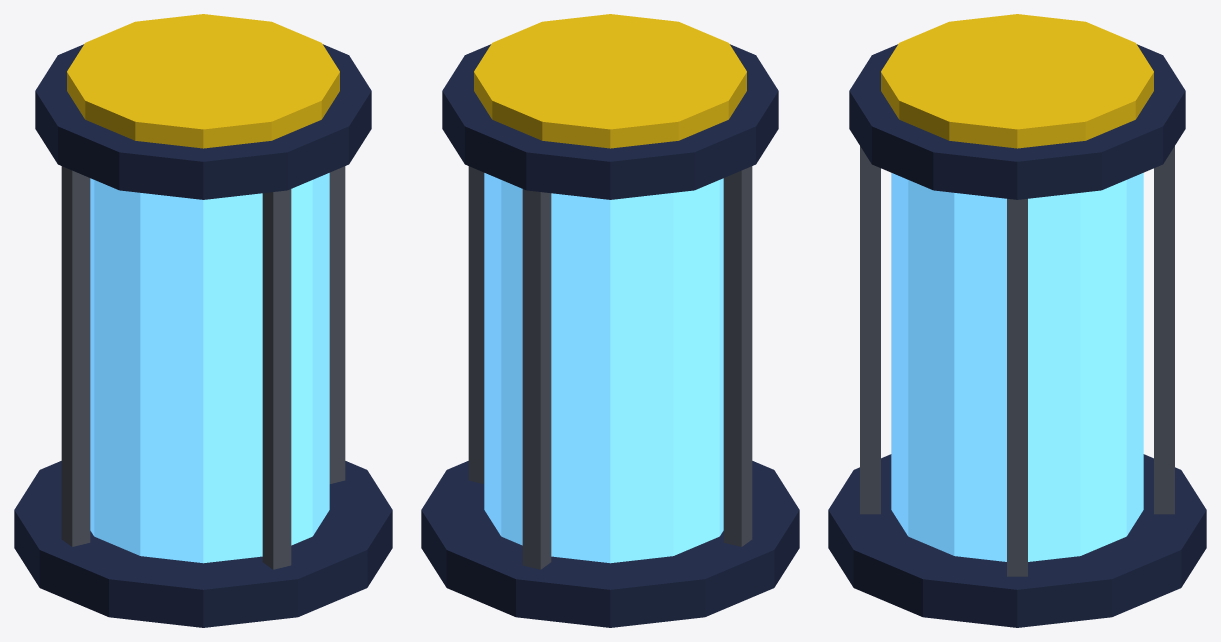
Rendered from stationpack-reactor-core.glb.
3 views of the same model, side by side, from view 1: azimuth 30°, elevation 25°; view 2: azimuth 150°, elevation 25°; view 3: azimuth 270°, elevation 25° (orthographic).
Parts seen in each view (by area): view 1: reactor_core; view 2: reactor_core; view 3: reactor_core.
Part boxes in pixels (x1,y1,x2,y2): reactor_core: (14,14,392,627); reactor_core: (421,14,799,627); reactor_core: (828,14,1206,627).
Size of the model in its own units: 1.8 by 2.5 by 1.8.
